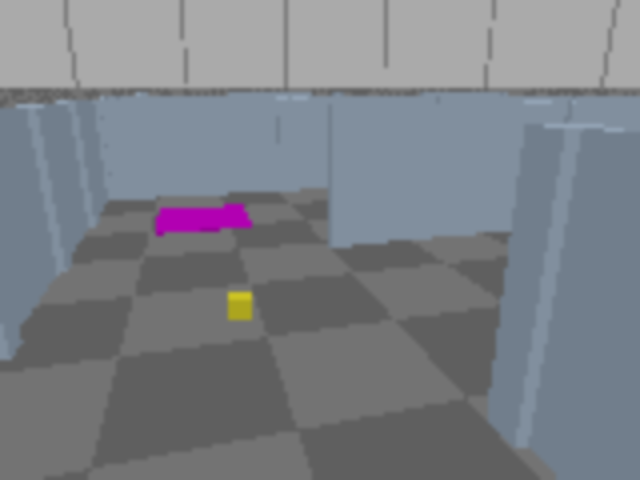goal_zone: (155, 205, 252, 235)
puck: (228, 292, 252, 321)
